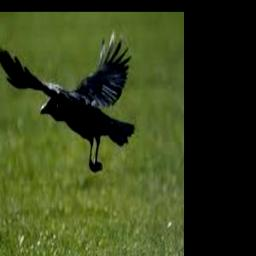Crow: (0, 24, 136, 172)
